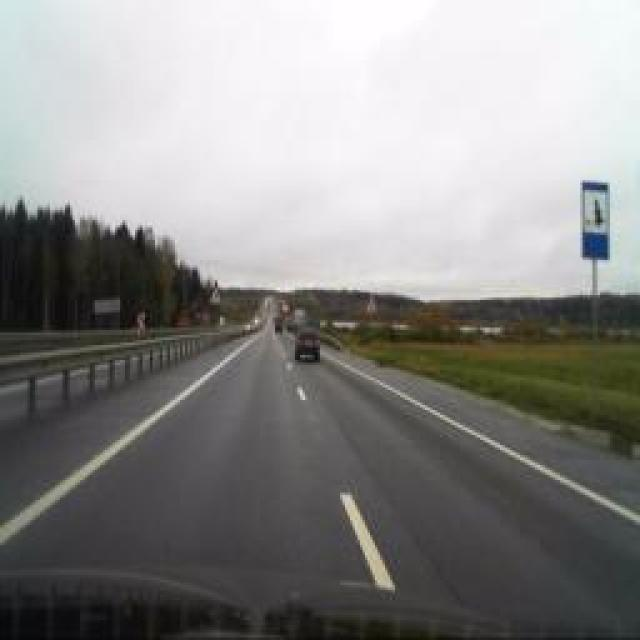sign: (209, 285, 221, 305), (366, 295, 376, 313)
